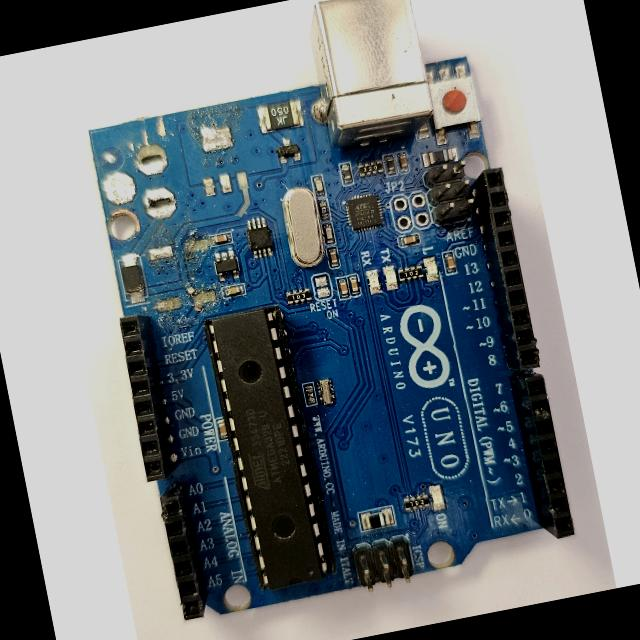missing_capacitors: (143, 224, 227, 322)
missing_eps: (121, 129, 188, 235)
missing_voltage_reg: (177, 112, 253, 200)
